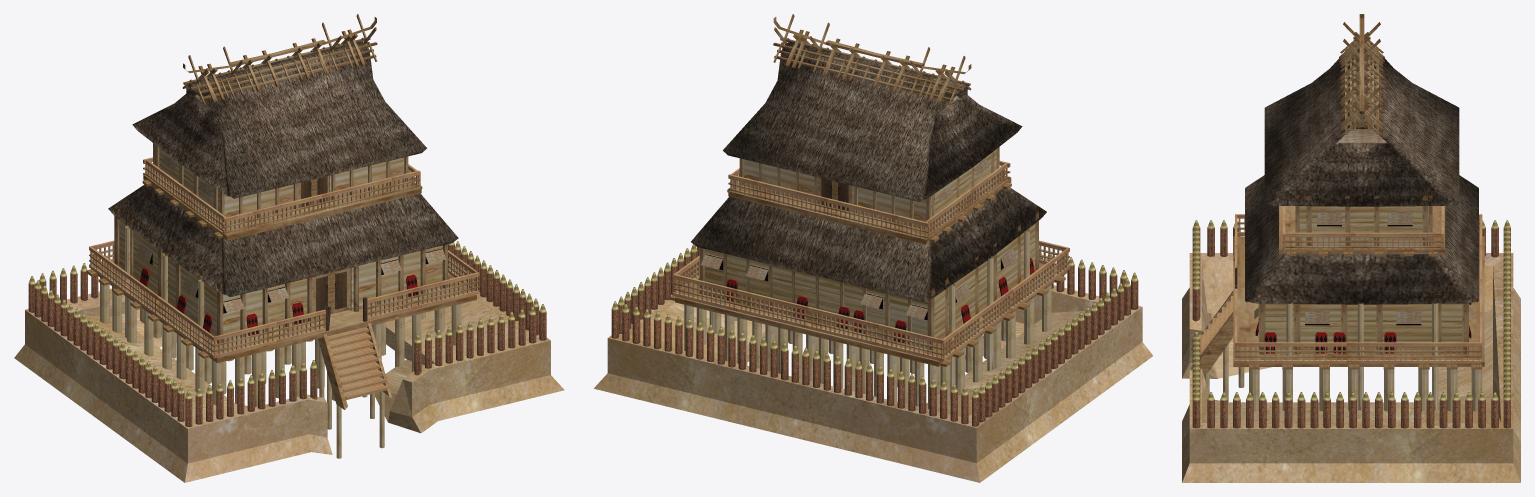
Rendered from yayoi_fortress.dae.
The picture shows the model from 3 angles, left to right: view 1: azimuth 30°, elevation 25°; view 2: azimuth 150°, elevation 25°; view 3: azimuth 270°, elevation 25°; orthographic projection. The views are drawn at different scales.
Visible parts, largest first — view 1: fortress; view 2: fortress; view 3: fortress.
Boxes of the visible parts, x1=… form: fortress: x1=14, y1=14, x2=564, y2=482; fortress: x1=594, y1=14, x2=1152, y2=482; fortress: x1=1182, y1=14, x2=1520, y2=482.
Bounding box in the file's own units: 33.91 × 26.37 × 30.27.
1 material, 1 textured.
